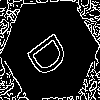D: (25, 25, 77, 81)
